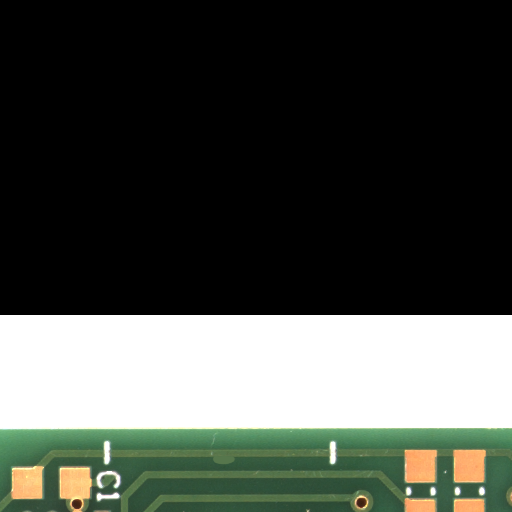Spur: (224, 459, 253, 470)
